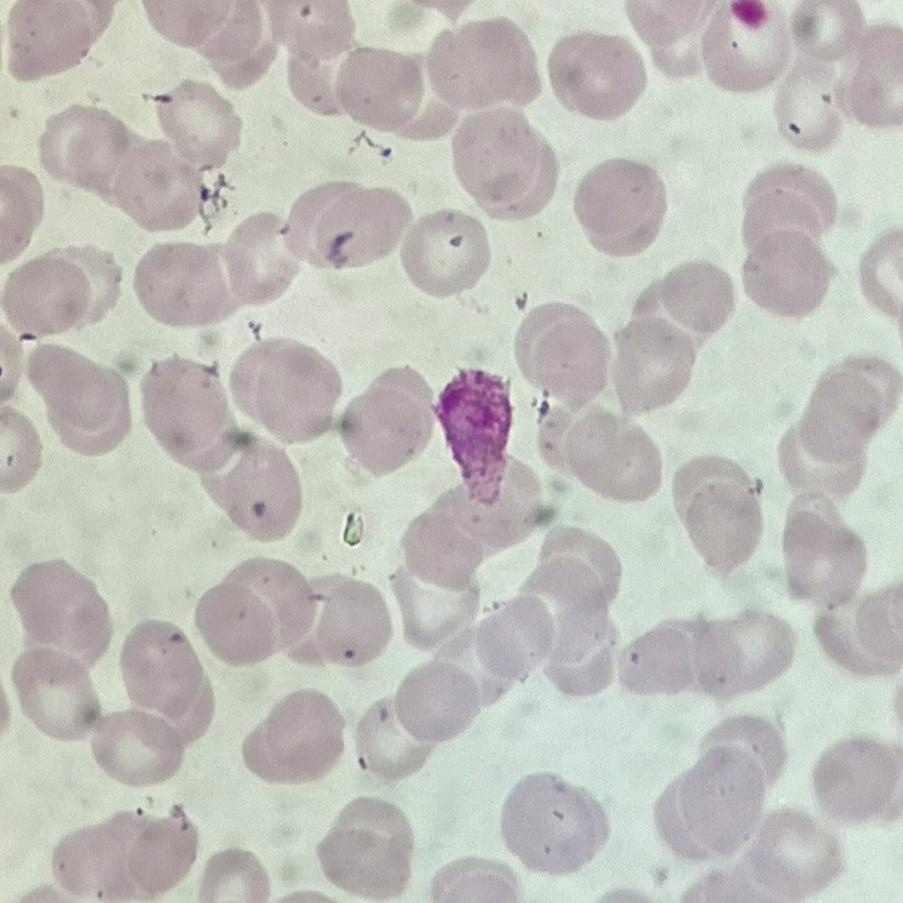Infected: (436, 373, 516, 510)
Uninfected: (781, 359, 900, 492), (194, 560, 314, 669), (655, 744, 769, 857), (23, 341, 132, 455), (227, 338, 342, 444), (140, 354, 241, 472), (449, 109, 556, 218), (499, 771, 606, 873), (671, 456, 764, 573), (716, 811, 838, 899), (427, 18, 540, 113), (340, 366, 437, 476), (99, 140, 211, 234), (10, 557, 110, 662), (296, 183, 411, 272), (201, 442, 301, 544), (512, 305, 609, 410), (241, 688, 347, 784), (116, 621, 208, 730), (11, 643, 107, 743), (134, 239, 241, 328), (778, 497, 863, 608), (572, 158, 668, 256), (2, 248, 108, 336), (529, 591, 620, 693), (684, 611, 793, 696), (566, 409, 663, 504), (39, 105, 139, 196), (213, 213, 304, 311), (447, 458, 545, 549), (815, 574, 903, 675), (545, 29, 646, 117), (297, 575, 391, 669), (51, 817, 156, 901), (740, 163, 839, 252), (467, 596, 558, 692), (608, 323, 696, 422), (520, 543, 619, 630), (399, 498, 491, 591), (6, 1, 112, 81), (331, 48, 429, 134), (632, 261, 733, 343), (152, 78, 244, 168), (704, 1, 794, 93), (397, 209, 490, 297), (742, 227, 831, 316), (391, 662, 483, 746), (353, 693, 441, 779), (88, 709, 185, 786), (314, 817, 408, 896), (814, 739, 899, 822), (389, 567, 474, 647), (626, 2, 724, 69), (697, 713, 785, 787), (119, 812, 198, 894), (839, 27, 903, 128), (184, 2, 272, 74), (618, 623, 703, 696), (775, 63, 845, 148), (269, 1, 360, 64), (786, 0, 861, 62), (286, 50, 345, 118), (429, 858, 516, 902), (196, 849, 265, 902)
